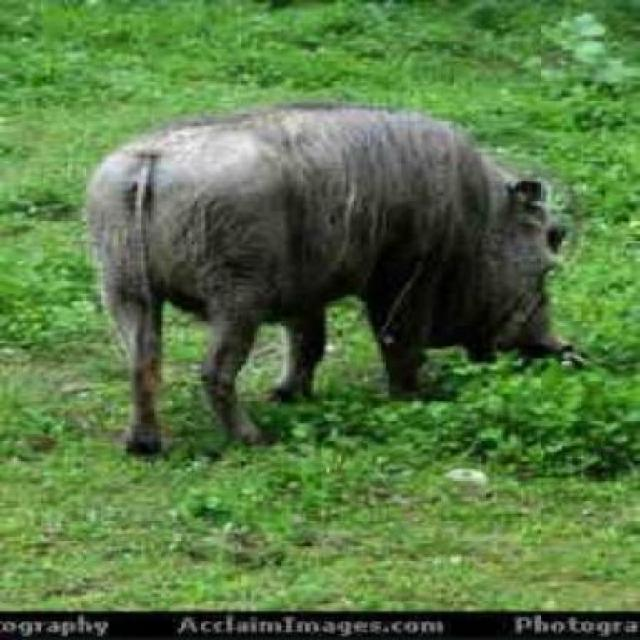pig: (97, 95, 633, 437)
